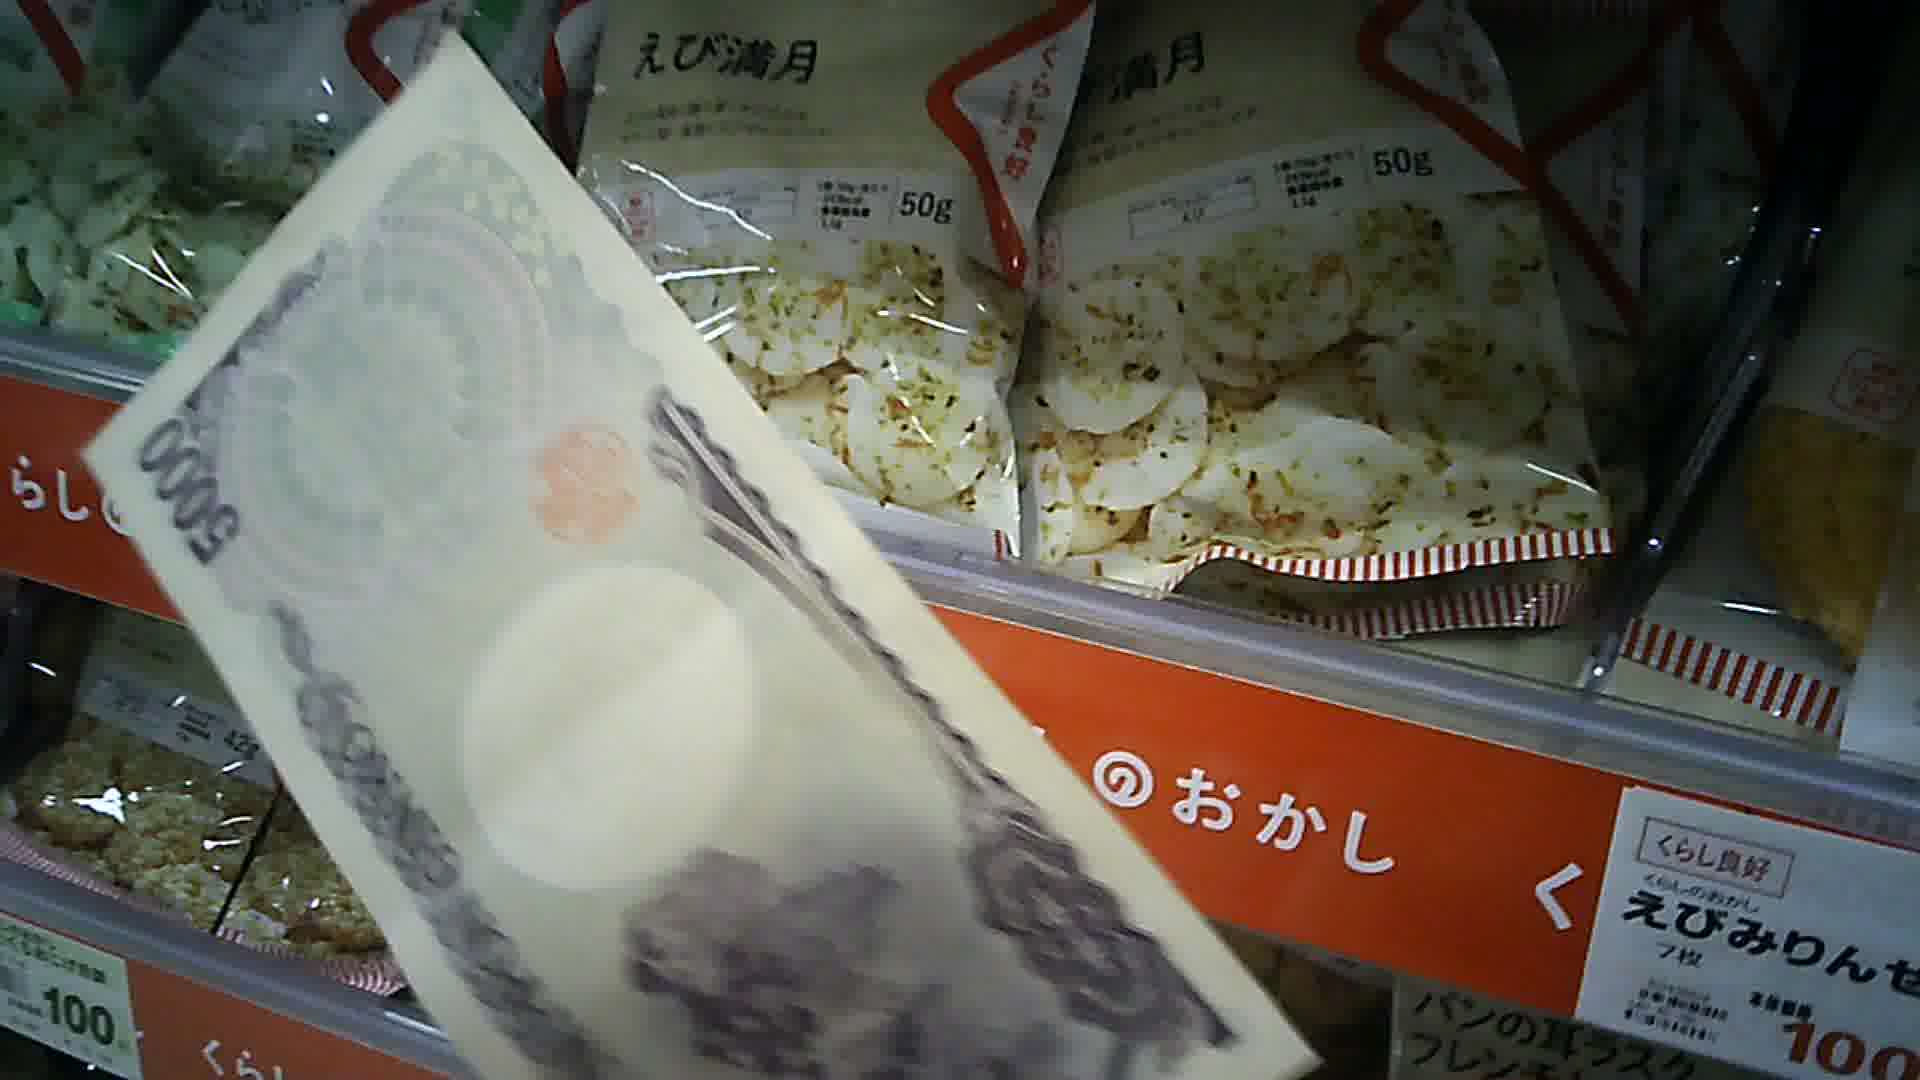5,000 Yen: (102, 44, 1278, 1079)
